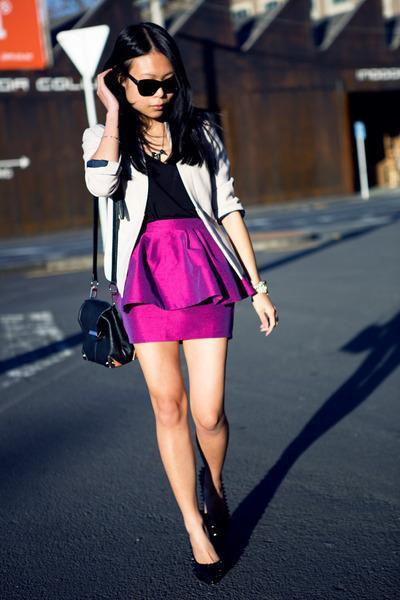bag: (65, 180, 154, 367)
jacket: (82, 133, 244, 298)
shirt: (140, 156, 199, 227)
shoe: (193, 468, 233, 584)
skirt: (117, 218, 257, 344)
sunglass: (132, 77, 161, 95)
